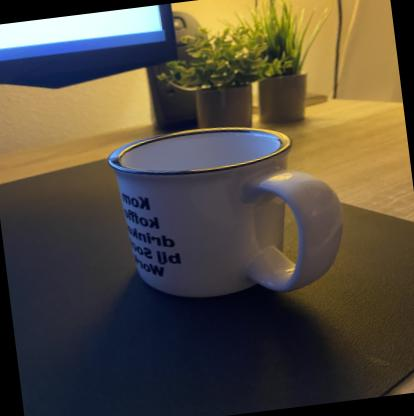Cup: (102, 108, 356, 318)
